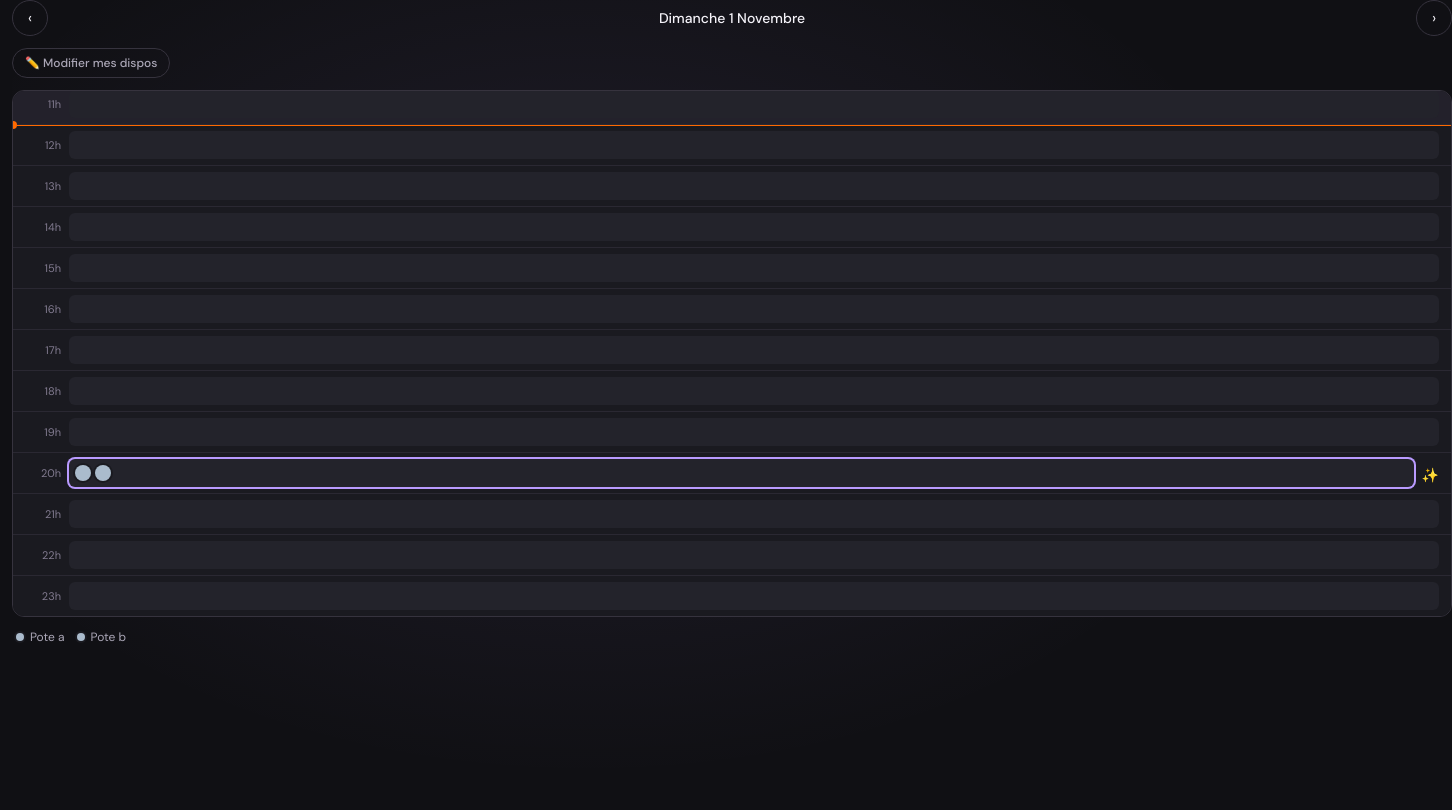
Test case: calendrier tactile : créer au créneau choisi › modifier ses dispos reste un geste distinct de créer
(page scrolled)
What coordinates should you click on to do the following:
click the button "✏️ Modifier mes dispos"
I would click on:
 (91, 63)
Its box is top-left (12, 48), bottom-right (170, 78).
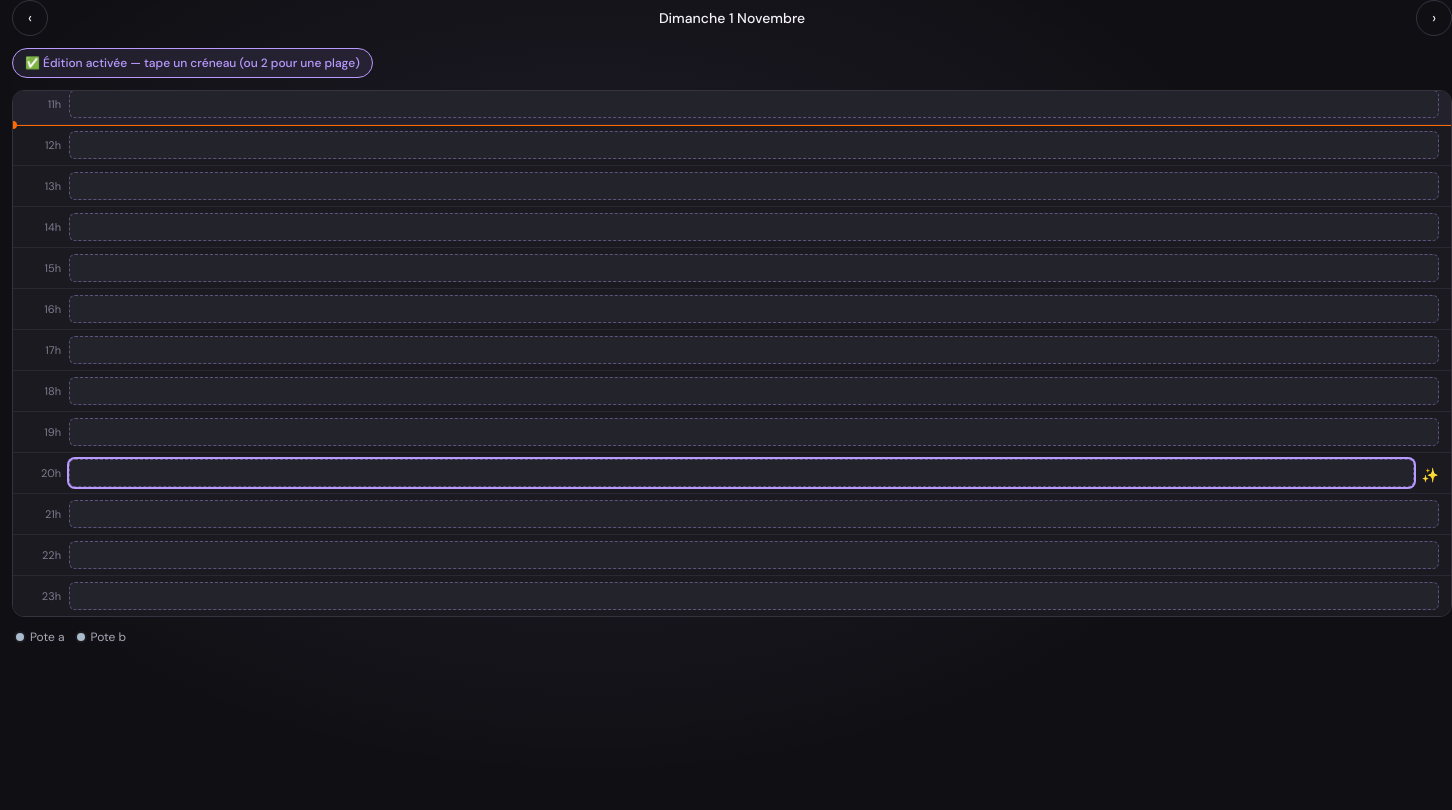
What coordinates should you click on to do the following:
click the button named "20h — pas dispo, taper pour ajouter"
I would click on:
 (741, 473)
Its box is top-left (69, 459), bottom-right (1414, 487).
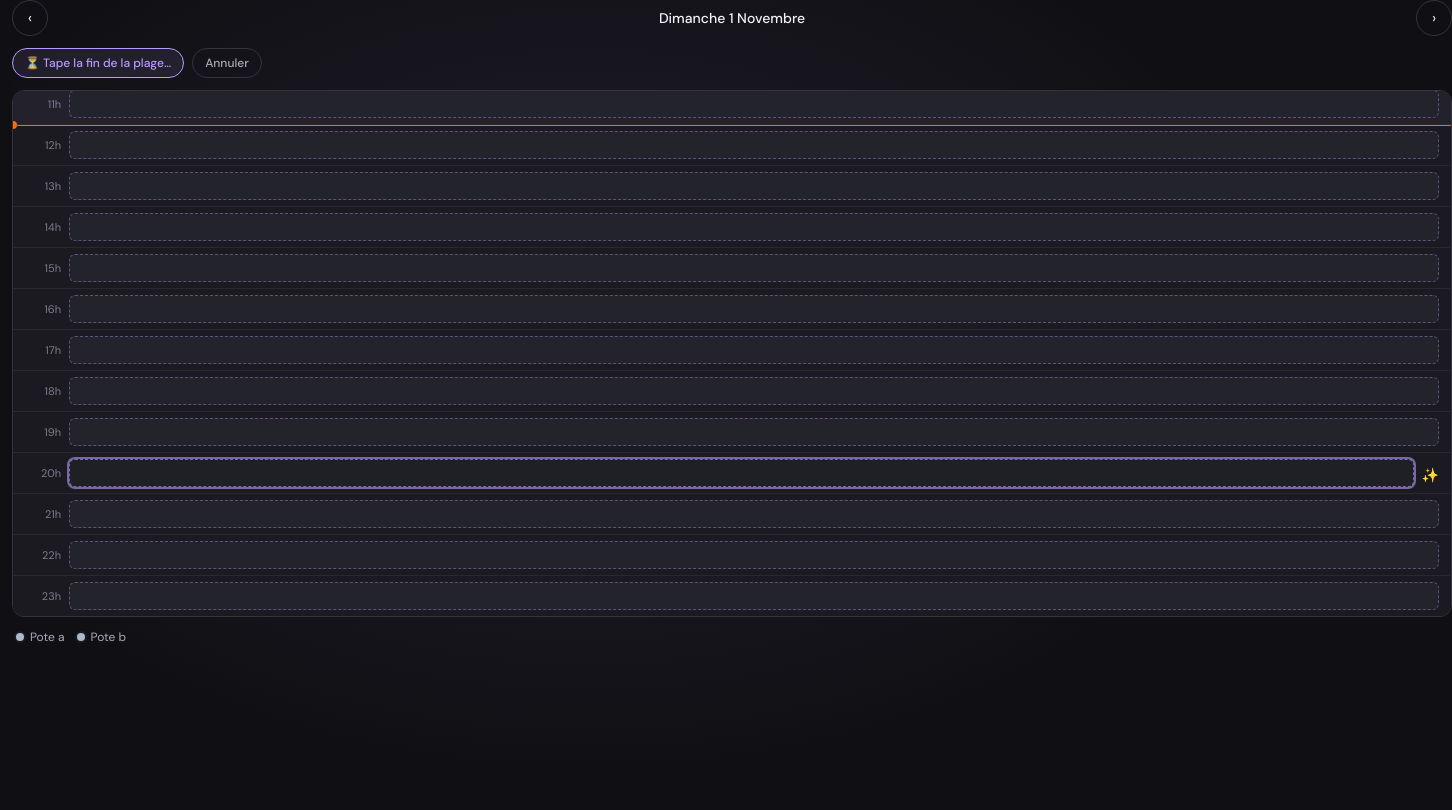
expect the button named "20h — début de plage sélectionné" is shown: met, box top-left (69, 459), bottom-right (1414, 487)
